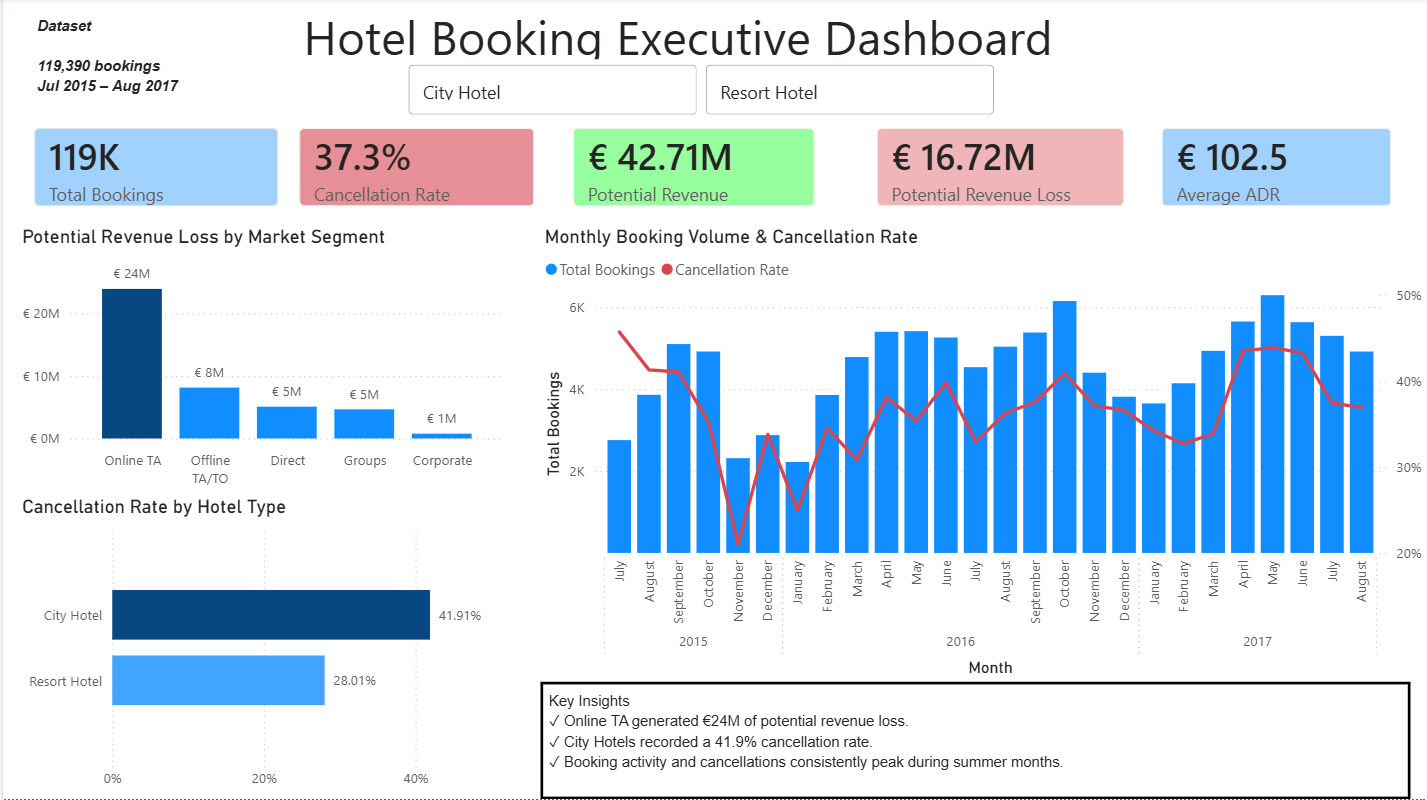

The dashboard page shown, as its layout file describes it:
{"tool":"powerbi","page":{"name":"Page 1","canvas":[1280,720],"ordinal":0},"visuals":[{"type":"columnChart","title":"Potential Revenue Loss by Market Segment","fields":{"Category":["hotel_bookings_cleaned.market_segment"],"Y":["hotel_bookings_cleaned.Potential Revenue"]},"box":[12.4,204.4,443.6,242.6],"z":0},{"type":"barChart","title":"Cancellation Rate by Hotel Type","fields":{"Category":["hotel_bookings_cleaned.hotel"],"Y":["hotel_bookings_cleaned.Cancellation Rate"]},"box":[12.4,447,443.6,272.9],"z":1000},{"type":"cardVisual","fields":{"Data":["hotel_bookings_cleaned.Average ADR"]},"box":[1024.2,99.9,240.3,104.4],"z":2000},{"type":"cardVisual","fields":{"Data":["hotel_bookings_cleaned.Total Bookings"]},"box":[11.2,99.9,253.8,104.4],"z":3000},{"type":"cardVisual","fields":{"Data":["hotel_bookings_cleaned.Cancellation Rate"]},"box":[249.3,99.9,245.9,104.4],"z":4000},{"type":"cardVisual","fields":{"Data":["hotel_bookings_cleaned.Potential Revenue"]},"box":[495.2,99.9,251.6,104.4],"z":5000},{"type":"cardVisual","fields":{"Data":["hotel_bookings_cleaned.Potential Revenue Loss"]},"box":[768.1,99.9,256,104.4],"z":6000},{"type":"textbox","box":[289.7,70.7,653.6,29.2],"z":7000},{"type":"textbox","box":[265,0,703,70.7],"z":8000},{"type":"lineStackedColumnComboChart","title":"Monthly Booking Volume & Cancellation Rate","fields":{"Y":["hotel_bookings_cleaned.Total Bookings"],"Y2":["hotel_bookings_cleaned.Cancellation Rate"],"Category":["hotel_bookings_cleaned.Arrival Date.Variation.Date Hierarchy.Year","hotel_bookings_cleaned.Arrival Date.Variation.Date Hierarchy.Month"]},"box":[481.8,204.4,798.5,409.9],"z":9000},{"type":"textbox","box":[482.9,614.3,781.6,105.6],"z":10000},{"type":"textbox","box":[25.8,10.1,149.4,89.8],"z":11000},{"type":"advancedSlicerVisual","fields":{"Values":["hotel_bookings_cleaned.hotel"]},"box":[359.4,55,536.8,55],"z":12000}]}

Visuals, with their boxes in screenshot pixels (x1, y1, x2, y2), scaled from the page's 1280x720 canvas onto the 1427x800 screenshot:
"Potential Revenue Loss by Market Segment" columnChart: [left=14, top=227, right=508, bottom=497]
"Cancellation Rate by Hotel Type" barChart: [left=14, top=497, right=508, bottom=799]
cardVisual - hotel_bookings_cleaned.Average ADR: [left=1142, top=111, right=1410, bottom=227]
cardVisual - hotel_bookings_cleaned.Total Bookings: [left=12, top=111, right=295, bottom=227]
cardVisual - hotel_bookings_cleaned.Cancellation Rate: [left=278, top=111, right=552, bottom=227]
cardVisual - hotel_bookings_cleaned.Potential Revenue: [left=552, top=111, right=833, bottom=227]
cardVisual - hotel_bookings_cleaned.Potential Revenue Loss: [left=856, top=111, right=1142, bottom=227]
textbox: [left=323, top=79, right=1052, bottom=111]
textbox: [left=295, top=0, right=1079, bottom=79]
"Monthly Booking Volume & Cancellation Rate" lineStackedColumnComboChart: [left=537, top=227, right=1426, bottom=683]
textbox: [left=538, top=683, right=1410, bottom=799]
textbox: [left=29, top=11, right=195, bottom=111]
advancedSlicerVisual - hotel_bookings_cleaned.hotel: [left=401, top=61, right=999, bottom=122]
